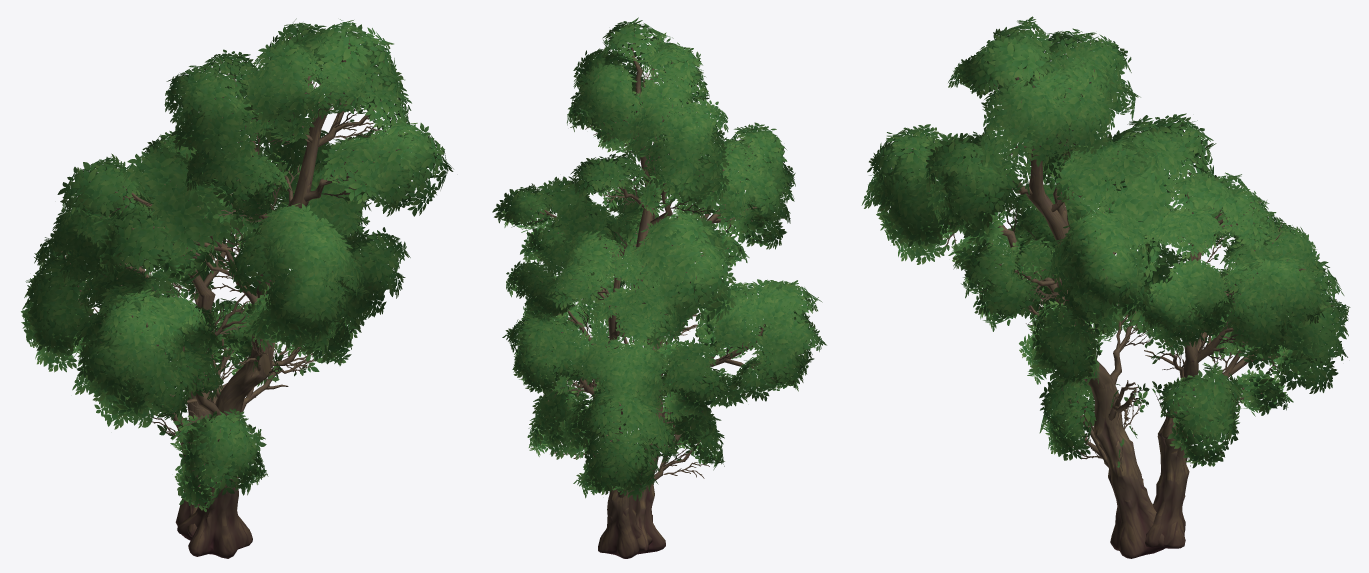
The model's file is SM_FW01_Tree_B_04.fbx.
3 renders of one model, left to right at view 1: azimuth 30°, elevation 25°; view 2: azimuth 150°, elevation 25°; view 3: azimuth 270°, elevation 25°, orthographic. The views are drawn at different scales.
Parts seen in each view (by area): view 1: SM_FW01_Tree_B_04_LOD0; view 2: SM_FW01_Tree_B_04_LOD0; view 3: SM_FW01_Tree_B_04_LOD0.
Part boxes in pixels (bbox=[...]): SM_FW01_Tree_B_04_LOD0: bbox=[21, 18, 453, 558]; SM_FW01_Tree_B_04_LOD0: bbox=[492, 17, 826, 558]; SM_FW01_Tree_B_04_LOD0: bbox=[861, 16, 1350, 558].
Size of what is drawn, in the model's own units: 7.79 by 11.69 by 9.63.
